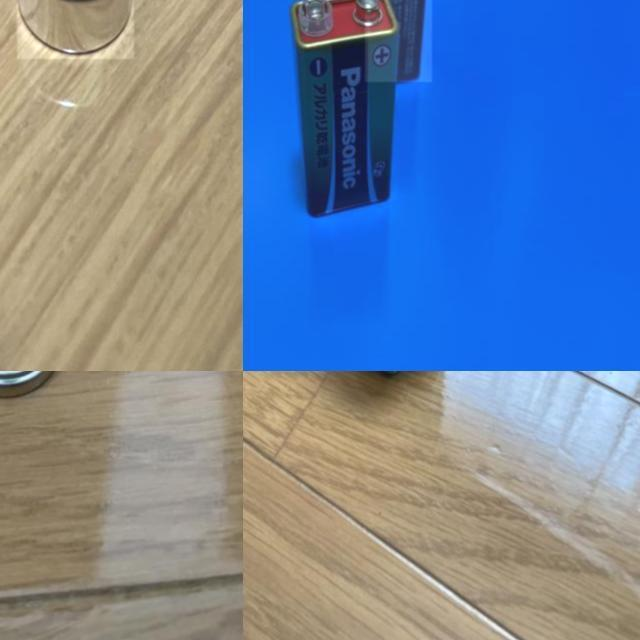9V: (288, 0, 399, 217), (365, 0, 432, 82)
